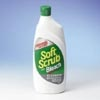grozi_84: (32, 2, 68, 94)
